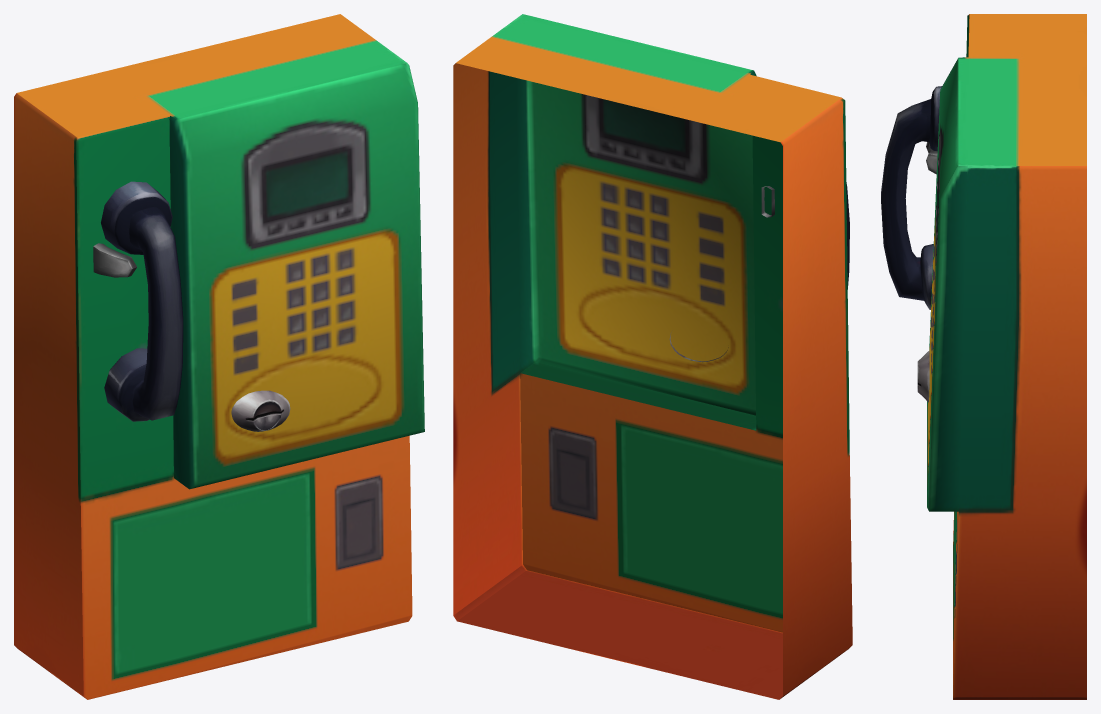
File: qiujiudianhua.fbx
3 views of the same model, side by side, from view 1: azimuth 30°, elevation 25°; view 2: azimuth 150°, elevation 25°; view 3: azimuth 270°, elevation 25° (orthographic). The views are drawn at different scales.
Parts seen in each view (by area): view 1: qiujiudianhua; view 2: qiujiudianhua; view 3: qiujiudianhua.
Part boxes in pixels (x1,y1,x2,y2): qiujiudianhua: (14,14,424,699); qiujiudianhua: (453,14,852,699); qiujiudianhua: (881,14,1086,699).
Size of the model in its own units: 12.73 by 20.58 by 7.18.
